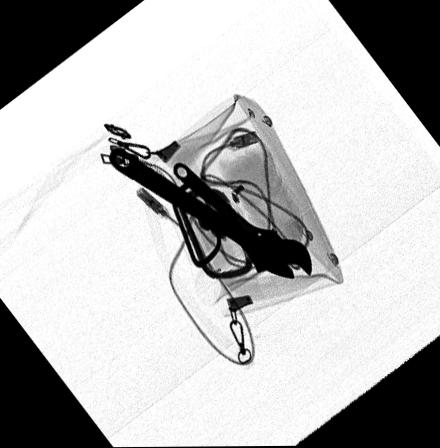Wrench: (108, 145, 313, 281), (172, 162, 290, 259)
